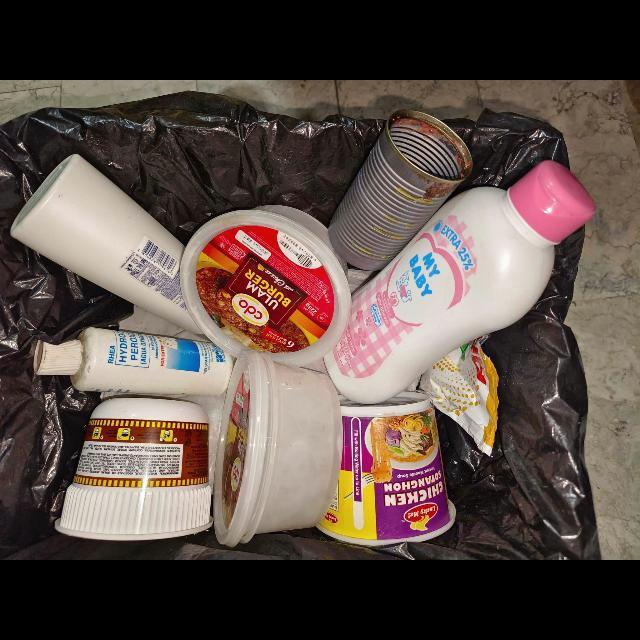aluminum: (328, 110, 473, 271)
plastic_bottle: (323, 161, 597, 406), (9, 154, 205, 338), (33, 328, 233, 397)
plastic_container: (179, 205, 352, 367), (213, 352, 343, 548), (54, 395, 213, 542), (316, 392, 456, 548)
plastic_sachet: (416, 337, 499, 457)
